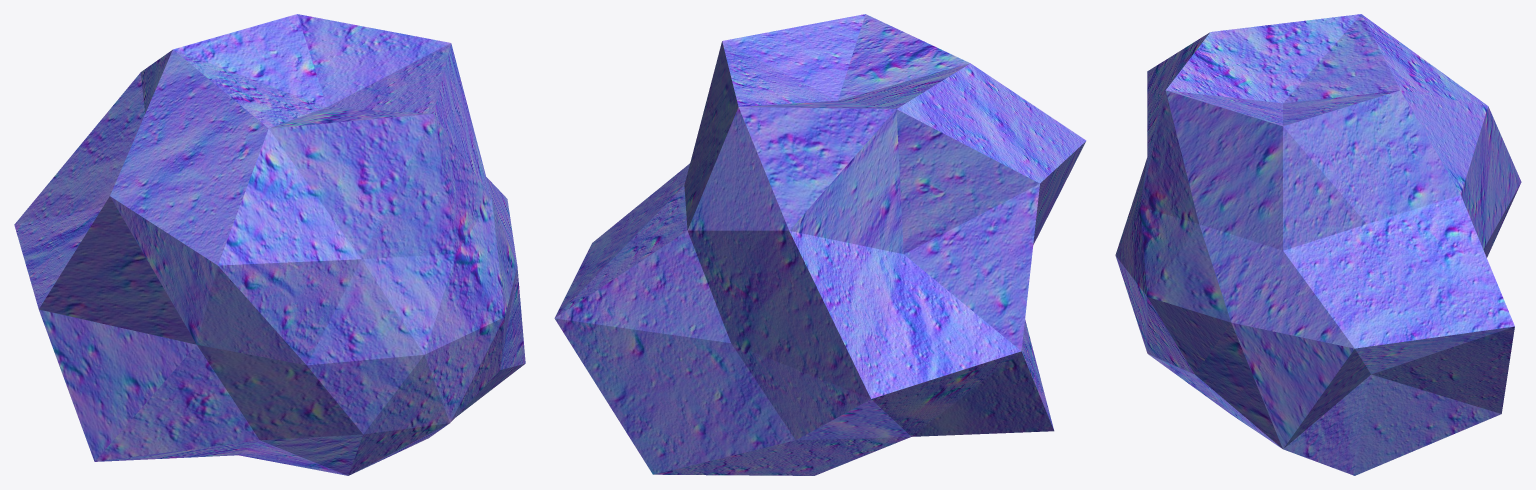
Rendered from bigasteroid5_LOD4.fbx.
3 views of the same model, side by side, from view 1: azimuth 30°, elevation 25°; view 2: azimuth 150°, elevation 25°; view 3: azimuth 270°, elevation 25° (orthographic). The views are drawn at different scales.
Visible parts, largest first — view 1: Icosphere; view 2: Icosphere; view 3: Icosphere.
Part boxes in pixels (x1,y1,x2,y2): Icosphere: (14, 14, 525, 475); Icosphere: (554, 14, 1086, 475); Icosphere: (1115, 14, 1521, 475).
Bounding box in the file's own units: 276 × 247 × 242.
